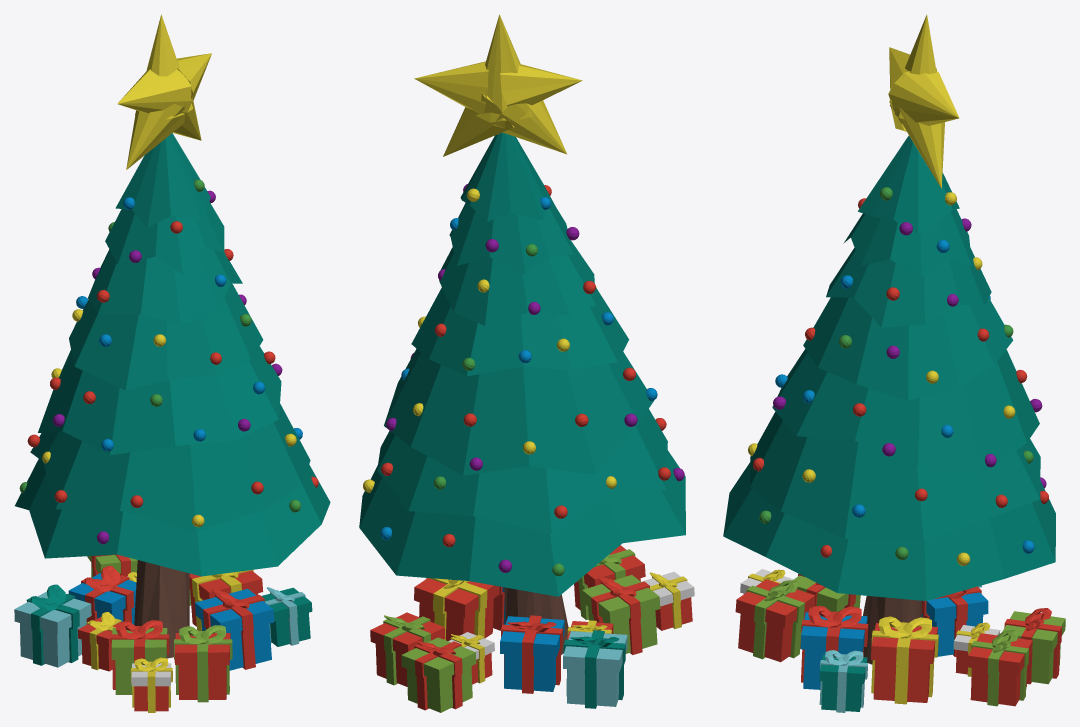
3 renders of one model, left to right at view 1: azimuth 30°, elevation 25°; view 2: azimuth 150°, elevation 25°; view 3: azimuth 270°, elevation 25°, orthographic. The views are drawn at different scales.
Visible parts, largest first — view 1: node_MeshObject-908120064-PolyPaper11, node_MeshObject-336040960-PolyPaper5; view 2: node_MeshObject-908120064-PolyPaper11, node_MeshObject-336040960-PolyPaper5; view 3: node_MeshObject-908120064-PolyPaper11, node_MeshObject-336040960-PolyPaper5.
Part boxes in pixels (x1,y1,x2,y2): node_MeshObject-908120064-PolyPaper11: [14, 133, 330, 694]; node_MeshObject-336040960-PolyPaper5: [19, 14, 301, 712]; node_MeshObject-908120064-PolyPaper11: [359, 132, 685, 708]; node_MeshObject-336040960-PolyPaper5: [370, 14, 694, 712]; node_MeshObject-908120064-PolyPaper11: [723, 135, 1055, 712]; node_MeshObject-336040960-PolyPaper5: [735, 14, 1065, 706].
Size of the model in its own units: 0.4099 by 0.8754 by 0.4139.
